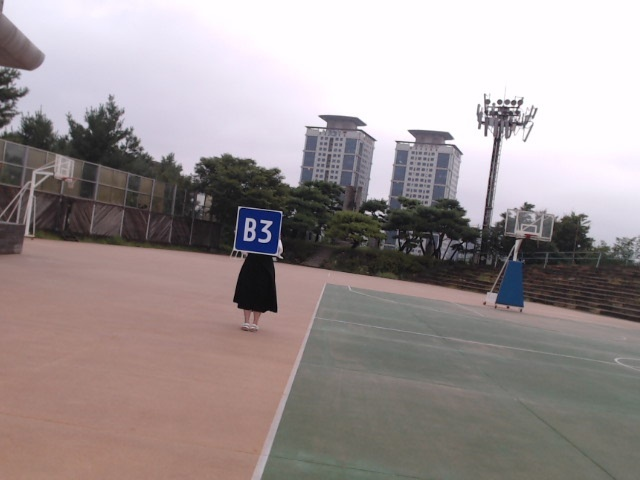delivery_b3: (234, 207, 282, 256)
